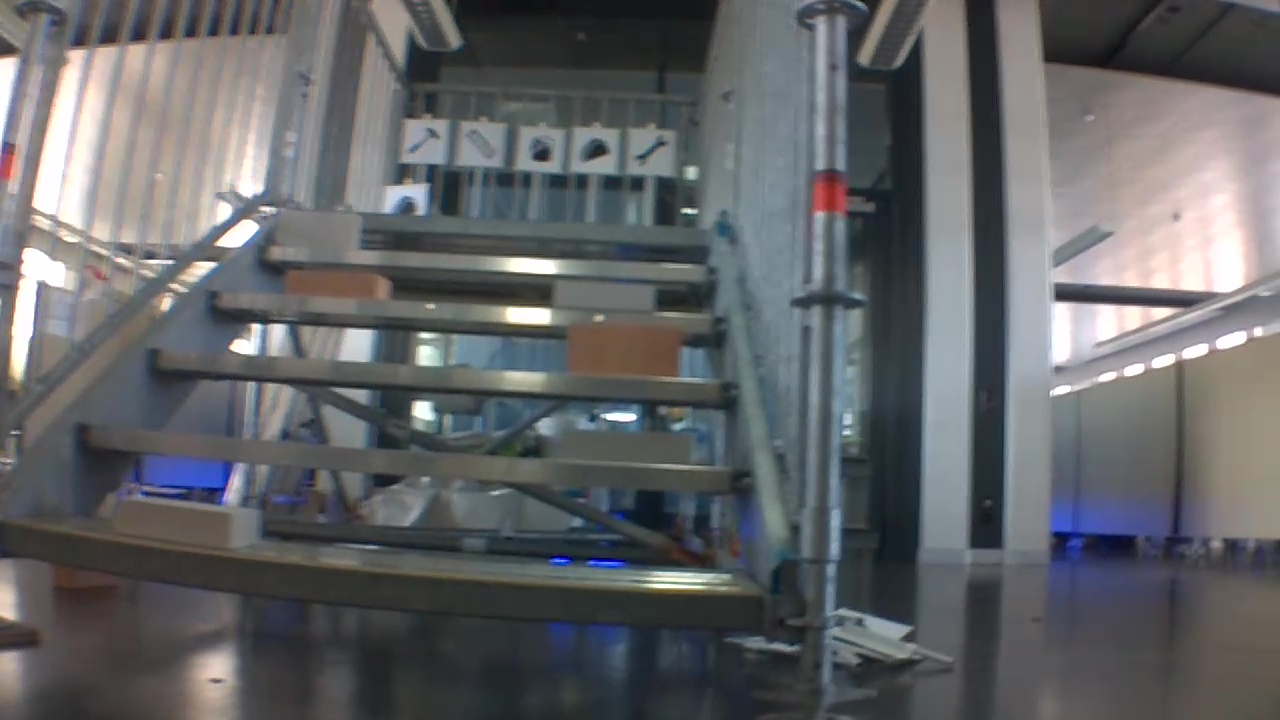brick: (558, 326, 681, 378), (110, 502, 275, 537), (556, 430, 697, 455), (282, 274, 391, 299), (281, 211, 363, 243), (551, 282, 657, 305)
bucket: (526, 135, 558, 163)
edge: (0, 520, 768, 645), (78, 422, 745, 495), (151, 348, 732, 406), (211, 289, 729, 337), (261, 244, 714, 281), (292, 210, 709, 240)
hammer: (411, 126, 442, 155)
ruler: (460, 125, 499, 162)
stairs: (0, 0, 826, 698)
steps: (6, 210, 793, 620)
taco: (573, 136, 615, 164), (395, 192, 419, 211)
wrench: (635, 132, 670, 165)
